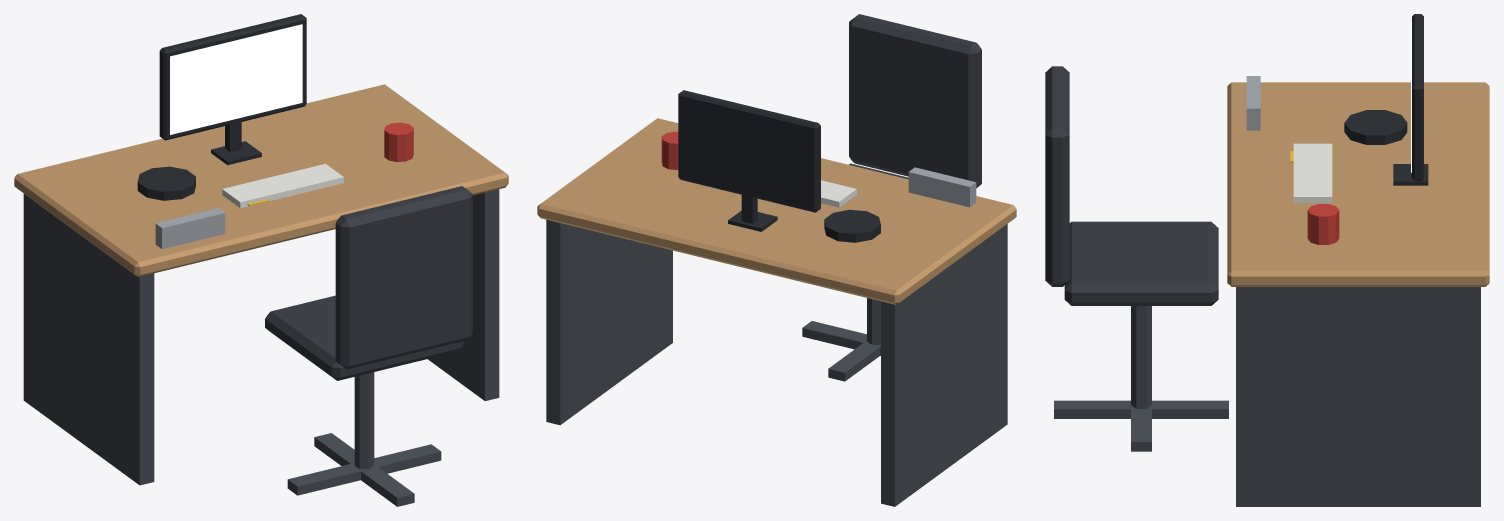
File: player_desk.glb
The picture shows the model from 3 angles, left to right: view 1: azimuth 30°, elevation 25°; view 2: azimuth 150°, elevation 25°; view 3: azimuth 270°, elevation 25°; orthographic projection. The views are drawn at different scales.
Parts seen in each view (by area): view 1: player_desk_mesh; view 2: player_desk_mesh; view 3: player_desk_mesh.
Part boxes in pixels (x1,y1,x2,y2): player_desk_mesh: (14, 14, 508, 506); player_desk_mesh: (537, 14, 1016, 506); player_desk_mesh: (1045, 14, 1489, 506).
Size of the model in its own units: 1.3 by 1.15 by 1.27.
